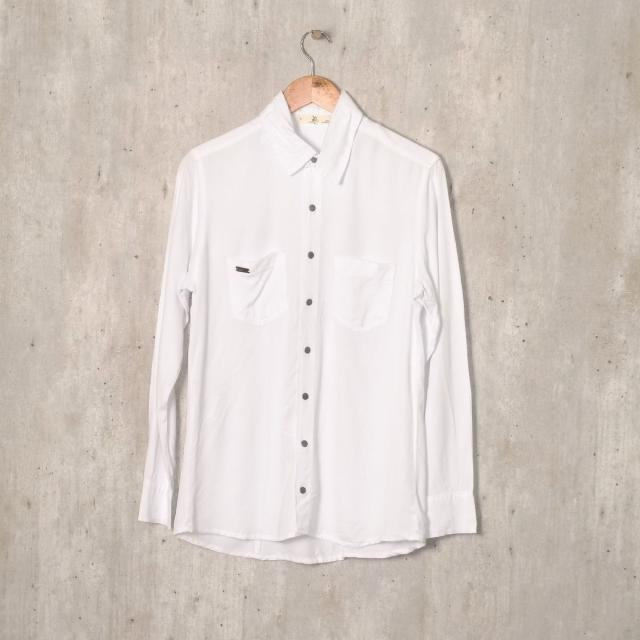long sleeve shirt: (131, 84, 483, 565)
